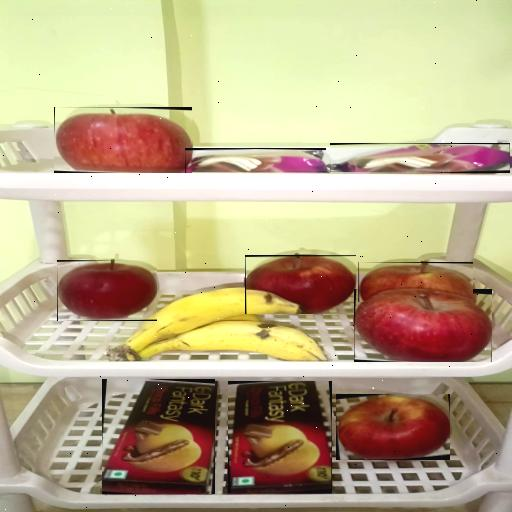Apple: (354, 289, 492, 362), (54, 107, 192, 173), (336, 394, 450, 460), (245, 255, 356, 314), (57, 260, 157, 321), (358, 262, 473, 302)
Choco Fills: (102, 379, 215, 494), (228, 381, 332, 493)
Choco Pie: (330, 144, 510, 174), (185, 148, 326, 172)
